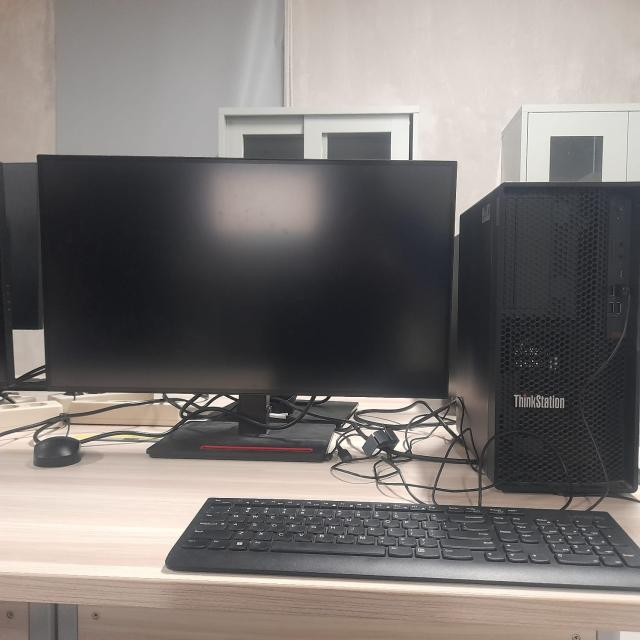keyboard: (165, 497, 640, 592)
monitor: (36, 155, 457, 463)
mouse: (33, 435, 82, 467)
pc: (454, 181, 640, 494)
